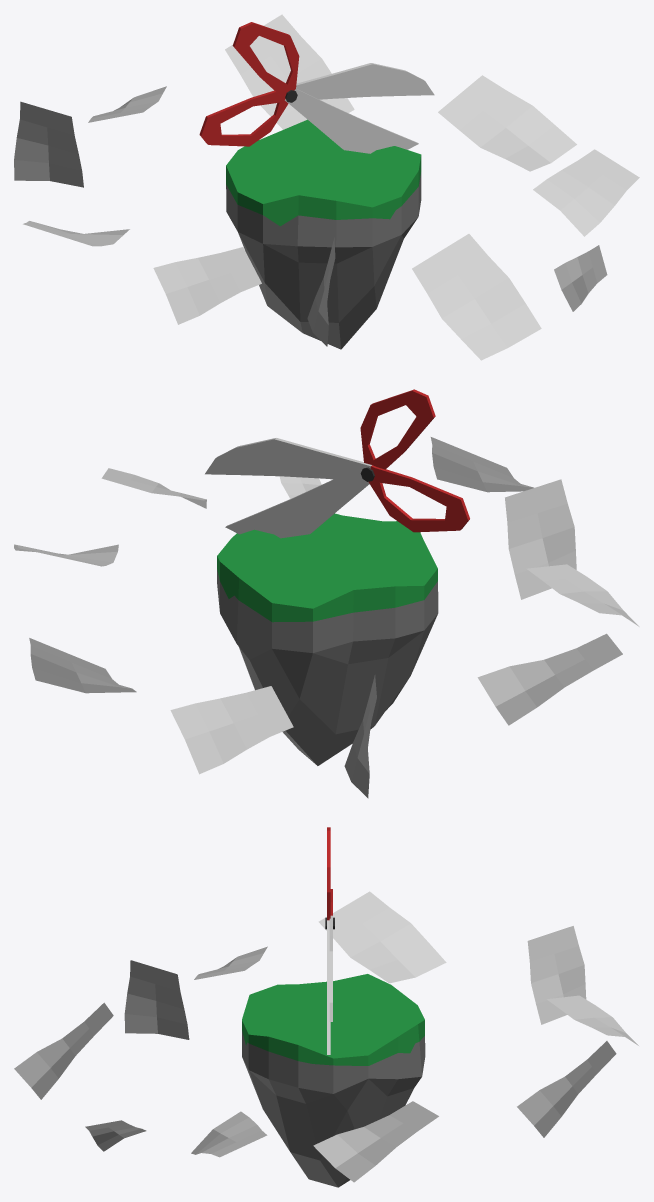
The model's file is RockpaperscissorsPlanet_v1.fbx.
3 renders of one model, top to bottom at view 1: azimuth 30°, elevation 25°; view 2: azimuth 150°, elevation 25°; view 3: azimuth 270°, elevation 25°, orthographic. The views are drawn at different scales.
Visible parts, largest first — view 1: Cylinder; view 2: Cylinder; view 3: Cylinder.
Part boxes in pixels (x1=…): Cylinder: x1=14, y1=14, x2=639, y2=360; Cylinder: x1=14, y1=389, x2=639, y2=798; Cylinder: x1=14, y1=827, x2=638, y2=1187.
Bounding box in the file's own units: 639 × 378 × 683.
